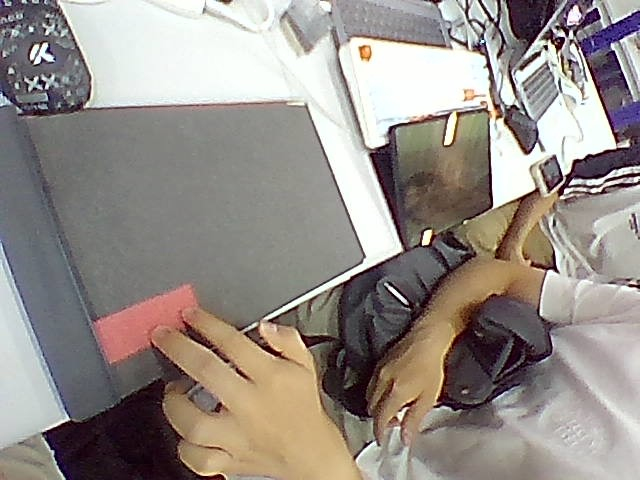card: (96, 284, 197, 363)
